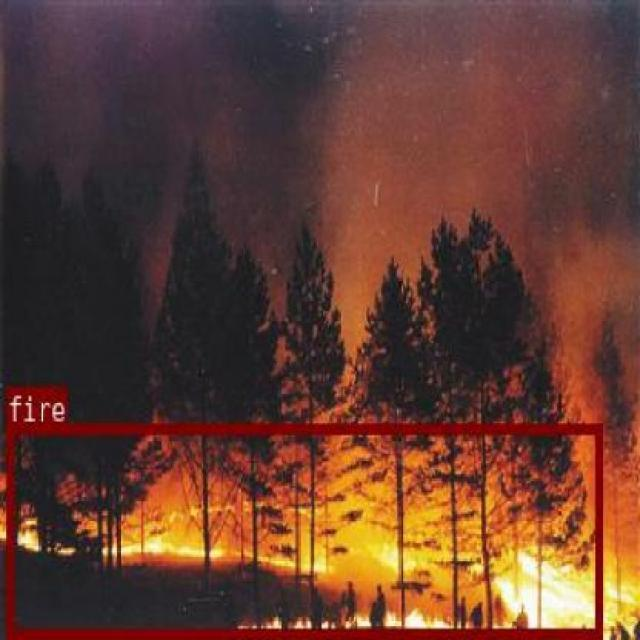fire: (6, 422, 600, 636)
